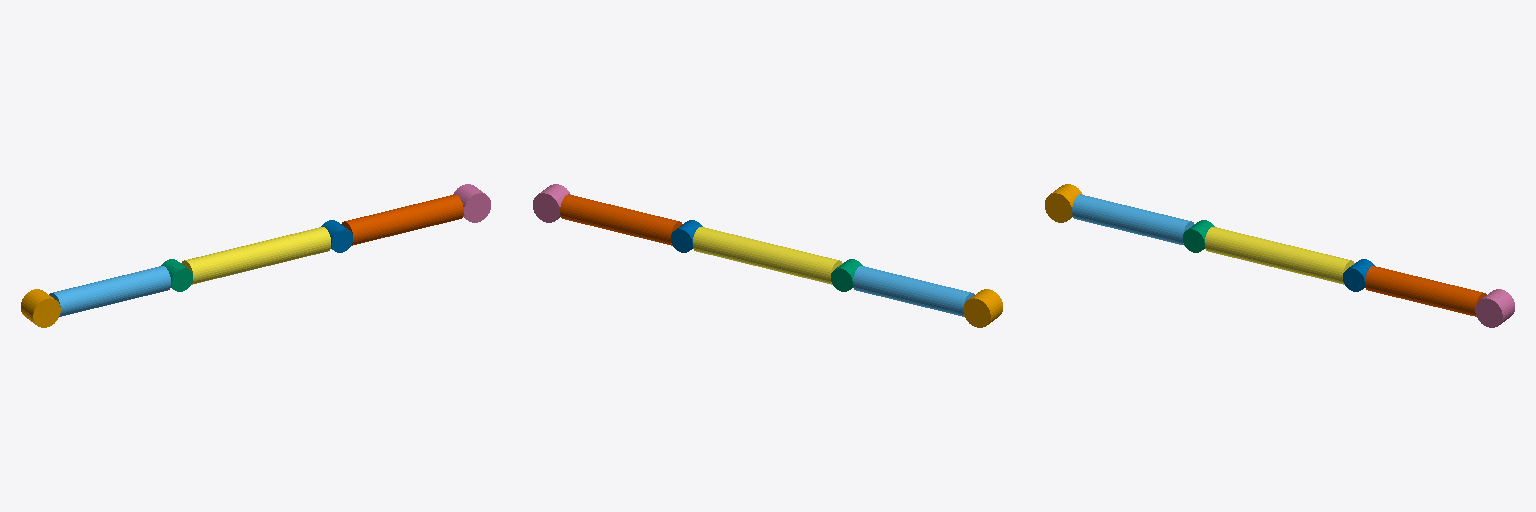
URDF robot description (magneto):
<?xml version="1.0"?>
<robot name="magneto">
 <link name="foot">
  <inertial>
    <mass value="1"/>
    <inertia ixx="0.00115833333333" ixy="0" ixz="0" iyy="0.00115833333333" iyz="0" izz="0.000625"/>
  </inertial>
  <visual>
    <origin rpy="1.57 0 0" xyz="0 0 0"/>
    <geometry>
      <cylinder length="0.08" radius="0.05"/>
    </geometry>
  </visual>
  <collision>
    <origin rpy="1.57 0 0" xyz="0 0 0"/>
    <geometry>
      <cylinder length="0.08" radius="0.05"/>
    </geometry>
  </collision>
 </link>

 <link name="leg1">
  <inertial>
    <mass value="1"/>
    <inertia ixx="0.0137333333333" ixy="0" ixz="0" iyy="0.0137333333333" iyz="0" izz="0.0004"/>
  </inertial>
  <visual>
    <origin rpy="0 1.57 0" xyz="0.25 0 0"/>
    <geometry>
      <cylinder length="0.4" radius="0.04"/>
    </geometry>
  </visual>
  <collision>
    <origin rpy="0 1.57 0" xyz="0.25 0 0"/>
    <geometry>
      <cylinder length="0.4" radius="0.04"/>
    </geometry>
  </collision>
 </link>

<joint name="joint_foot_leg1" type="fixed">
  <origin rpy="0 0 0" xyz="0 0 0"/>
  <parent link="foot"/>
  <child link="leg1"/>
</joint>

 <link name="joint1">
  <inertial>
    <mass value="1"/>
    <inertia ixx="0.000933333333333" ixy="0" ixz="0" iyy="0.000933333333333" iyz="0" izz="0.0004"/>
  </inertial>
  <visual>
    <origin rpy="1.57 0 0" xyz="0.49 0 0"/>
    <geometry>
      <cylinder length="0.08" radius="0.04"/>
    </geometry>
  </visual>
  <collision>
    <origin rpy="1.57 0 0" xyz="0.49 0 0"/>
    <geometry>
      <cylinder length="0.08" radius="0.04"/>
    </geometry>
  </collision>
 </link>

<joint name="joint_joint1_leg1" type="fixed">
  <origin rpy="0 0 0" xyz="0 0 0"/>
  <parent link="leg1"/>
  <child link="joint1"/>
</joint>

 <link name="leg2">
  <inertial>
    <mass value="1"/>
    <inertia ixx="0.0212333333333" ixy="0" ixz="0" iyy="0.0212333333333" iyz="0" izz="0.0004"/>
  </inertial>
  <visual>
    <origin rpy="0 1.57 0" xyz="0.29 0 0"/>
    <geometry>
      <cylinder length="0.5" radius="0.04"/>
    </geometry>
  </visual>
  <collision>
    <origin rpy="0 1.57 0" xyz="0.29 0 0"/>
    <geometry>
      <cylinder length="0.5" radius="0.04"/>
    </geometry>
  </collision>
 </link>

<joint name="joint_leg2_joint1_Z" type="revolute">
  <origin rpy="0 0 0" xyz="0.49 0 0"/>
  <parent link="joint1"/>
  <child link="leg2"/>
  <axis xyz="0 1 0"/>
  <dynamics damping="0.01" friction="0.5"/>
  <limit lower="-1.57" upper="1.57" effort="0.01" velocity="100"/>
</joint>

 <link name="joint2">
  <inertial>
    <mass value="1"/>
    <inertia ixx="0.000933333333333" ixy="0" ixz="0" iyy="0.000933333333333" iyz="0" izz="0.0004"/>
  </inertial>
  <visual>
    <origin rpy="1.57 0 0" xyz="0.58 0 0"/>
    <geometry>
      <cylinder length="0.08" radius="0.04"/>
    </geometry>
  </visual>
  <collision>
    <origin rpy="1.57 0 0" xyz="0.58 0 0"/>
    <geometry>
      <cylinder length="0.08" radius="0.04"/>
    </geometry>
  </collision>
 </link>

<joint name="joint_joint2_leg2" type="fixed">
  <origin rpy="0 0 0" xyz="0 0 0"/>
  <parent link="leg2"/>
  <child link="joint2"/>
</joint>

 <link name="leg3">
  <inertial>
    <mass value="1"/>
    <inertia ixx="0.0137333333333" ixy="0" ixz="0" iyy="0.0137333333333" iyz="0" izz="0.0004"/>
  </inertial>
  <visual>
    <origin rpy="0 1.57 0" xyz="0.24 0 0"/>
    <geometry>
      <cylinder length="0.4" radius="0.04"/>
    </geometry>
  </visual>
  <collision>
    <origin rpy="0 1.57 0" xyz="0.24 0 0"/>
    <geometry>
      <cylinder length="0.4" radius="0.04"/>
    </geometry>
  </collision>
 </link>

<joint name="joint_leg3_joint2_Z" type="revolute">
  <origin rpy="0 0 0" xyz="0.58 0 0"/>
  <parent link="joint2"/>
  <child link="leg3"/>
  <axis xyz="0 1 0"/>
  <dynamics damping="0.01" friction="0.5"/>
  <limit lower="-1.57" upper="1.57" effort="0.01" velocity="100"/>
</joint>

 <link name="foot2">
  <inertial>
    <mass value="1"/>
    <inertia ixx="0.00115833333333" ixy="0" ixz="0" iyy="0.00115833333333" iyz="0" izz="0.000625"/>
  </inertial>
  <visual>
    <origin rpy="1.57 0 0" xyz="0.49 0 0"/>
    <geometry>
      <cylinder length="0.08" radius="0.05"/>
    </geometry>
  </visual>
  <collision>
    <origin rpy="1.57 0 0" xyz="0.49 0 0"/>
    <geometry>
      <cylinder length="0.08" radius="0.05"/>
    </geometry>
  </collision>
 </link>

<joint name="joint_foot2_leg3" type="fixed">
  <origin rpy="0 0 0" xyz="0 0 0"/>
  <parent link="leg3"/>
  <child link="foot2"/>
</joint>

  <klampt package_root="../../.." default_acc_max="4" >
  </klampt>
</robot>

--- Render facts (derived) ---
3 views of the same robot in one strip: view 1: azimuth 30°, elevation 25°; view 2: azimuth 150°, elevation 25°; view 3: azimuth 330°, elevation 25° (orthographic).
Robot: magneto — 7 links, 6 joints (2 revolute, 4 fixed); root link foot; default pose: every joint at zero.
Visible links, largest first — view 1: leg2, leg3, leg1, foot, foot2, joint2, joint1; view 2: leg2, leg3, leg1, foot, foot2, joint1, joint2; view 3: leg2, leg1, leg3, foot2, foot, joint1, joint2.
Boxes of the visible links, x1,y1,x2,y2 form: leg2: (181, 227, 330, 284); leg3: (341, 194, 463, 245); leg1: (49, 266, 170, 316); foot: (21, 289, 60, 327); foot2: (453, 184, 490, 222); joint2: (321, 220, 352, 252); joint1: (161, 259, 192, 291); leg2: (693, 227, 842, 284); leg3: (560, 194, 682, 245); leg1: (853, 266, 974, 316); foot: (963, 289, 1002, 327); foot2: (533, 184, 570, 222); joint1: (831, 259, 862, 291); joint2: (671, 220, 702, 252); leg2: (1205, 227, 1354, 284); leg1: (1072, 194, 1194, 245); leg3: (1365, 266, 1486, 316); foot2: (1475, 289, 1514, 327); foot: (1045, 184, 1082, 222); joint1: (1183, 220, 1214, 252); joint2: (1343, 259, 1374, 291).
Bounding box of the posed robot: 1.66 × 0.0801 × 0.1001 m (x, y, z).
Geometry: primitives only (box / cylinder / sphere), no mesh files.